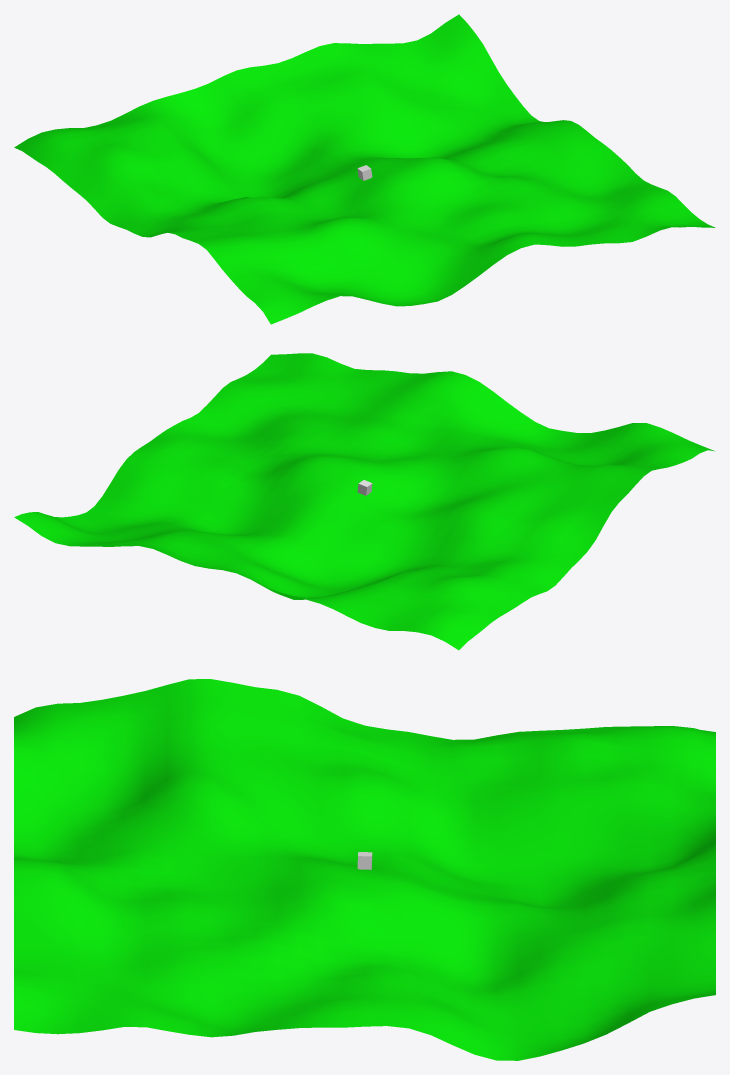
File: WorldMap.glb
The picture shows the model from 3 angles, top to bottom: view 1: azimuth 30°, elevation 25°; view 2: azimuth 150°, elevation 25°; view 3: azimuth 270°, elevation 25°; orthographic projection. The views are drawn at different scales.
Parts seen in each view (by area): view 1: Plane-col; view 2: Plane-col; view 3: Plane-col.
Part boxes in pixels (x1,y1,x2,y2): Plane-col: (14, 14, 715, 324); Plane-col: (14, 353, 714, 650); Plane-col: (14, 679, 715, 1060).
Bounding box in the file's own units: 100 × 14 × 100.
